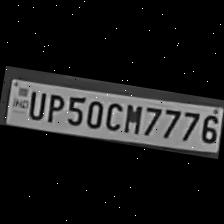0: (82, 95, 106, 129)
5: (61, 91, 86, 127)
6: (195, 108, 221, 144)
7: (156, 104, 180, 140), (175, 106, 199, 142), (138, 102, 162, 136)
C: (101, 96, 125, 132)
M: (118, 99, 144, 135)
P: (42, 89, 66, 125)
U: (23, 86, 48, 120)
